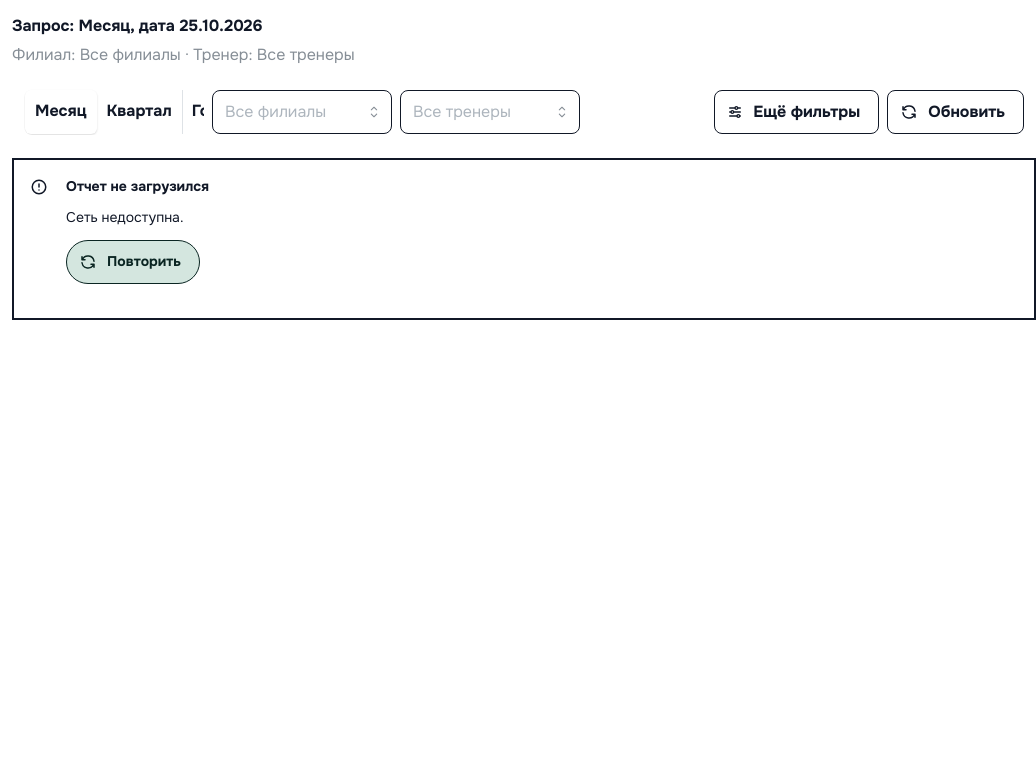
Test: FinanceReportsScreen › renders a retryable initial error inside the report surface
Check: the text "Отчет не загрузился" is shown, box [66, 176, 209, 197]
Check: the text "Сеть недоступна." is shown, box [66, 208, 184, 226]
Click the button "Повторить" at [133, 262], box [66, 240, 200, 284]
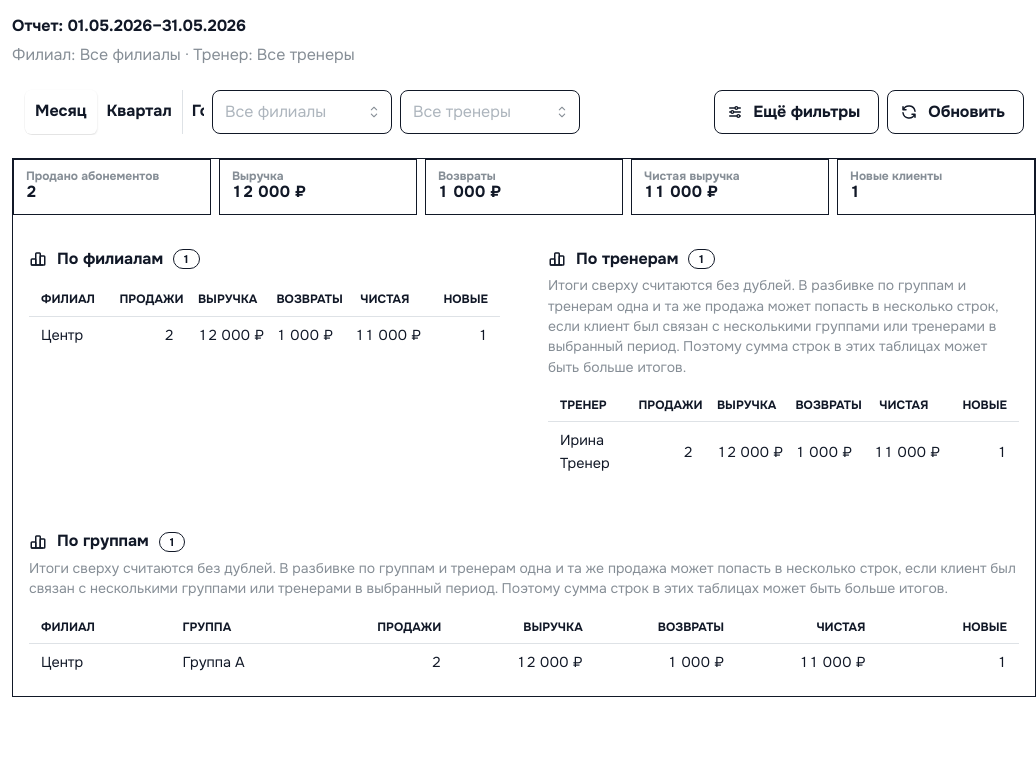
Check: the element with test id "finance-totals" is shown, box [13, 159, 1035, 215]
